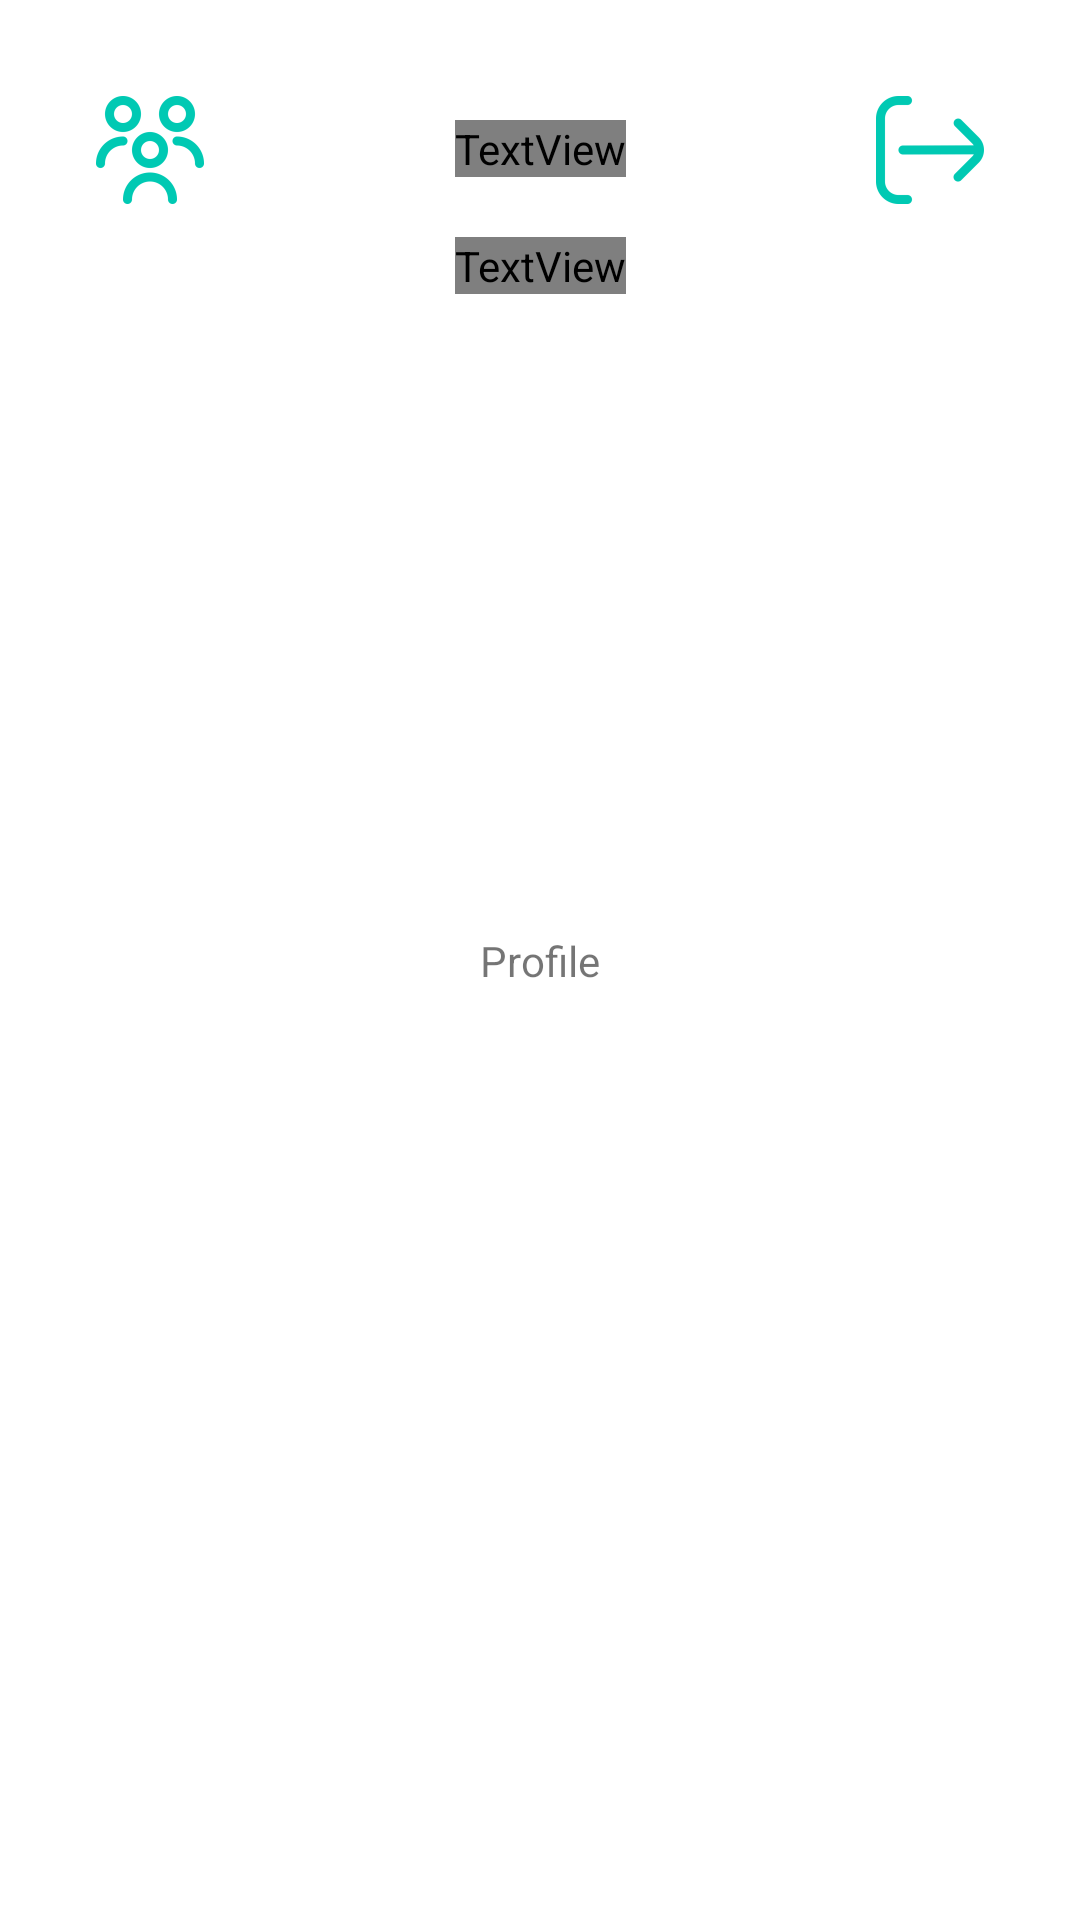

Icons on this 1080px×1920px Android screen, each with the point to tap as (x=x, y=y):
exit: (x=930, y=150)
users: (x=150, y=150)
